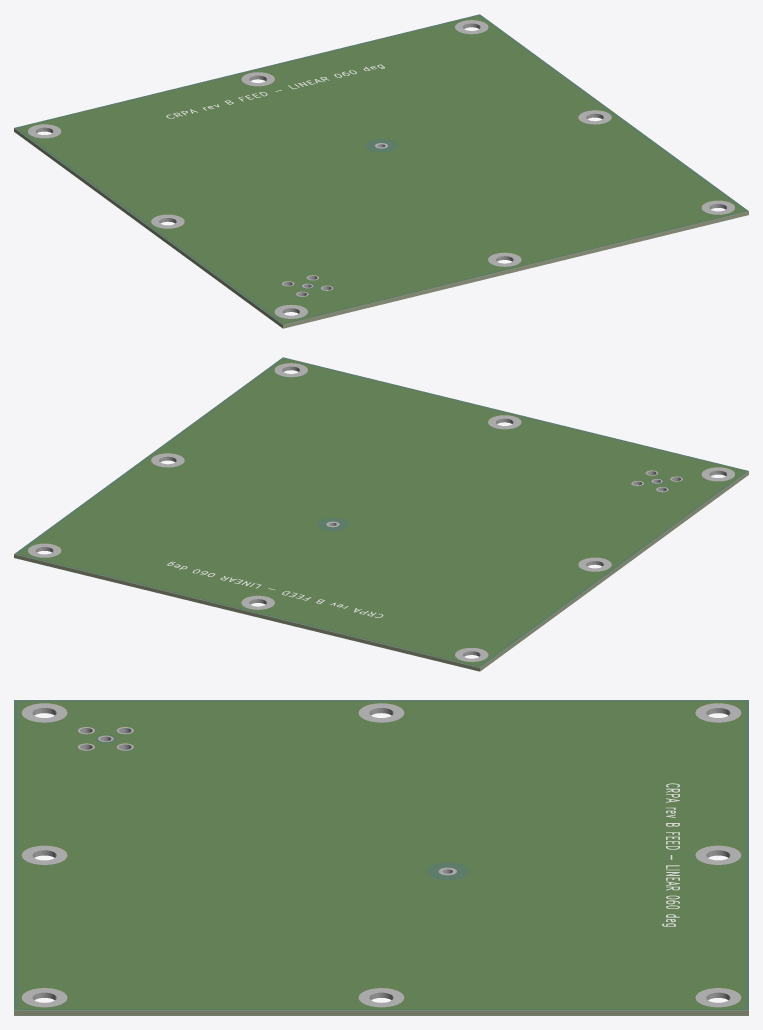
The model's file is feed_linear_060.glb.
3 renders of one model, top to bottom at view 1: azimuth 30°, elevation 25°; view 2: azimuth 150°, elevation 25°; view 3: azimuth 270°, elevation 25°, orthographic. The views are drawn at different scales.
Visible parts, largest first — view 1: =>[0:1:1:9], =>[0:1:1:4], =>[0:1:1:11], =>[0:1:1:5], =>[0:1:1:10]; view 2: =>[0:1:1:9], =>[0:1:1:4], =>[0:1:1:11], =>[0:1:1:5], =>[0:1:1:10]; view 3: =>[0:1:1:9], =>[0:1:1:4], =>[0:1:1:11], =>[0:1:1:5], =>[0:1:1:7], =>[0:1:1:10].
Part boxes in pixels (x1,y1,x2,y2): =>[0:1:1:9]: (14, 14, 748, 324); =>[0:1:1:4]: (19, 16, 743, 322); =>[0:1:1:11]: (14, 15, 748, 328); =>[0:1:1:5]: (28, 20, 734, 318); =>[0:1:1:10]: (15, 132, 748, 328); =>[0:1:1:9]: (14, 357, 748, 667); =>[0:1:1:4]: (19, 359, 743, 665); =>[0:1:1:11]: (14, 358, 748, 671); =>[0:1:1:5]: (28, 363, 734, 661); =>[0:1:1:10]: (14, 475, 747, 671); =>[0:1:1:9]: (14, 700, 748, 1010); =>[0:1:1:4]: (18, 702, 744, 1008); =>[0:1:1:11]: (14, 701, 748, 1015); =>[0:1:1:5]: (21, 703, 741, 1007); =>[0:1:1:7]: (662, 783, 679, 926); =>[0:1:1:10]: (14, 1015, 748, 1015).
Bounding box in the file's own units: 0.096 × 0.00163 × 0.096.
